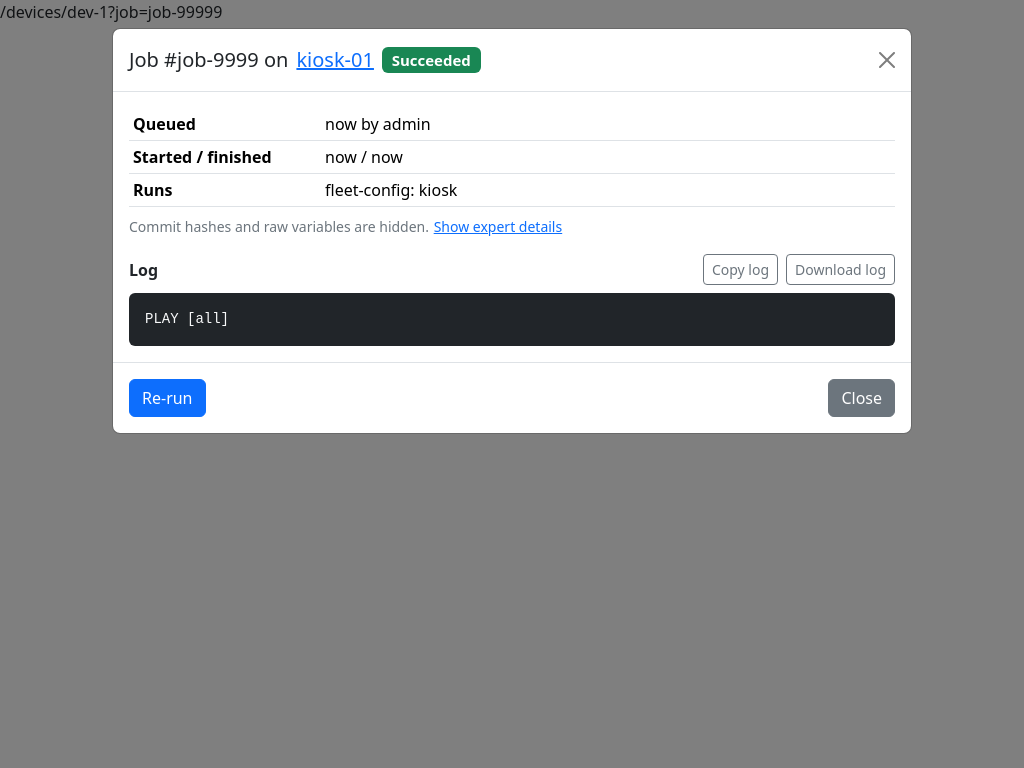
Scenario: expert mode › hides raw variables and commit hashes by default, with a way to show them
The image size is (1024, 768).
expect the text "fleet-config: kiosk" is shown: met, box [325,179,457,201]
expect the text "kiosk_url" is not shown: met
Click the button "Show expert details". click: coordinates (498, 226)
box: [433,215,563,238]
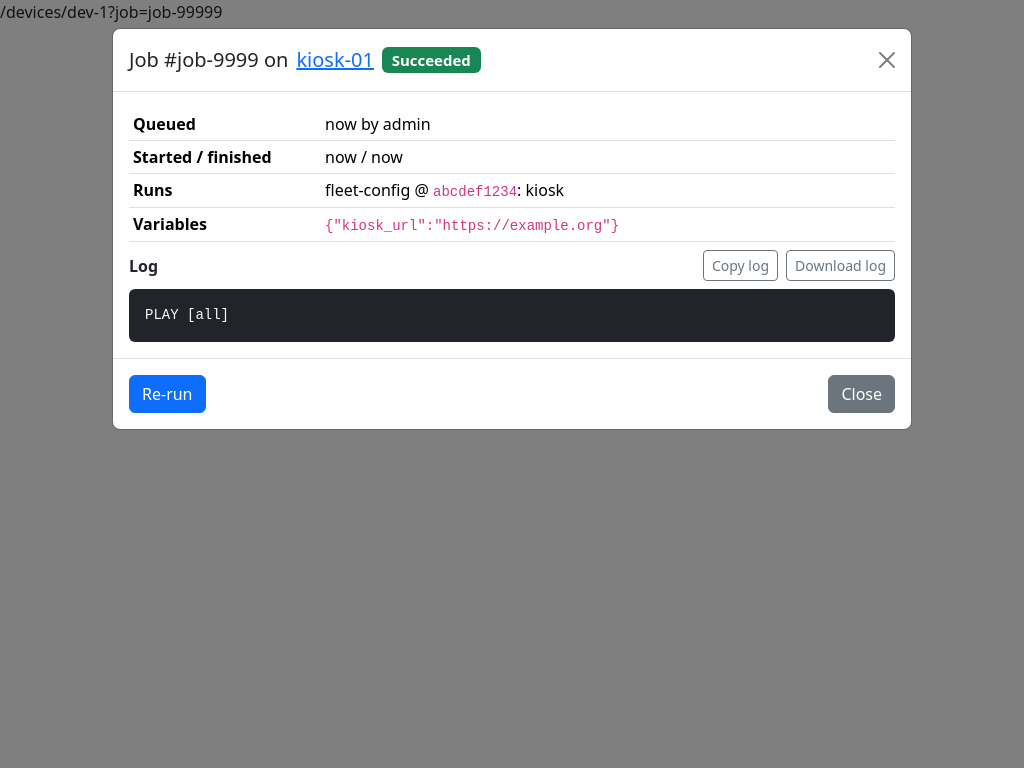
expect the text "{\"kiosk_url\":\"https://example.org\"}" is shown: met, box [325,218,619,234]
